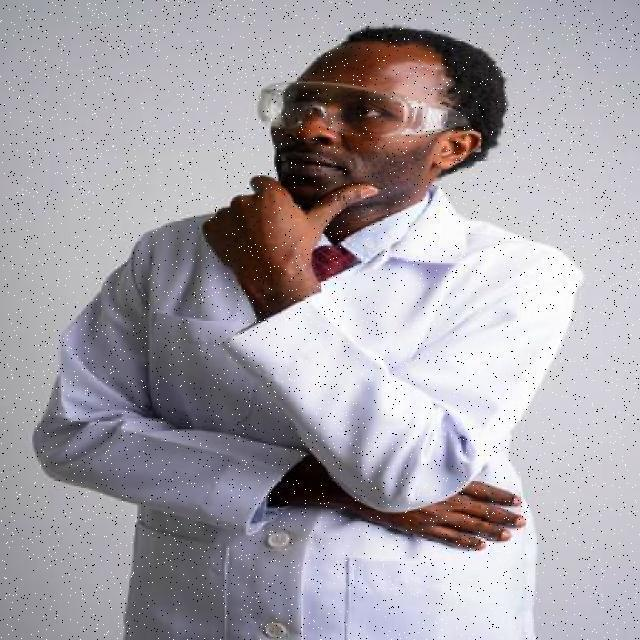Goggles: (248, 66, 494, 160)
